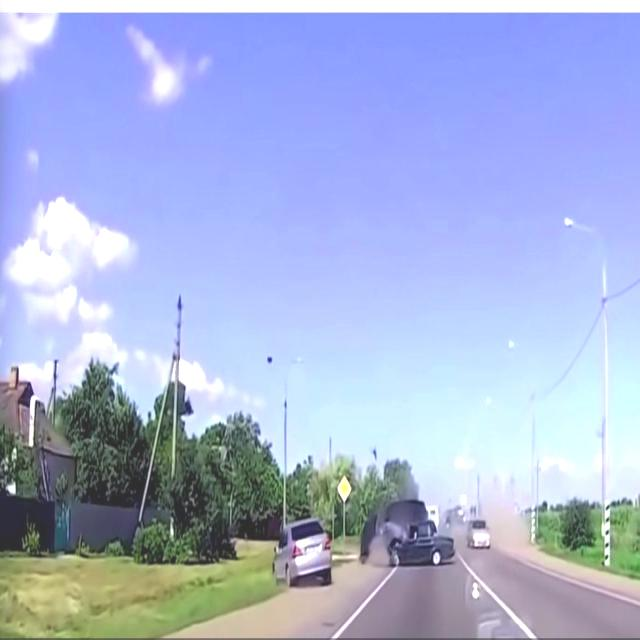accident: (272, 497, 454, 588), (358, 498, 454, 570)
